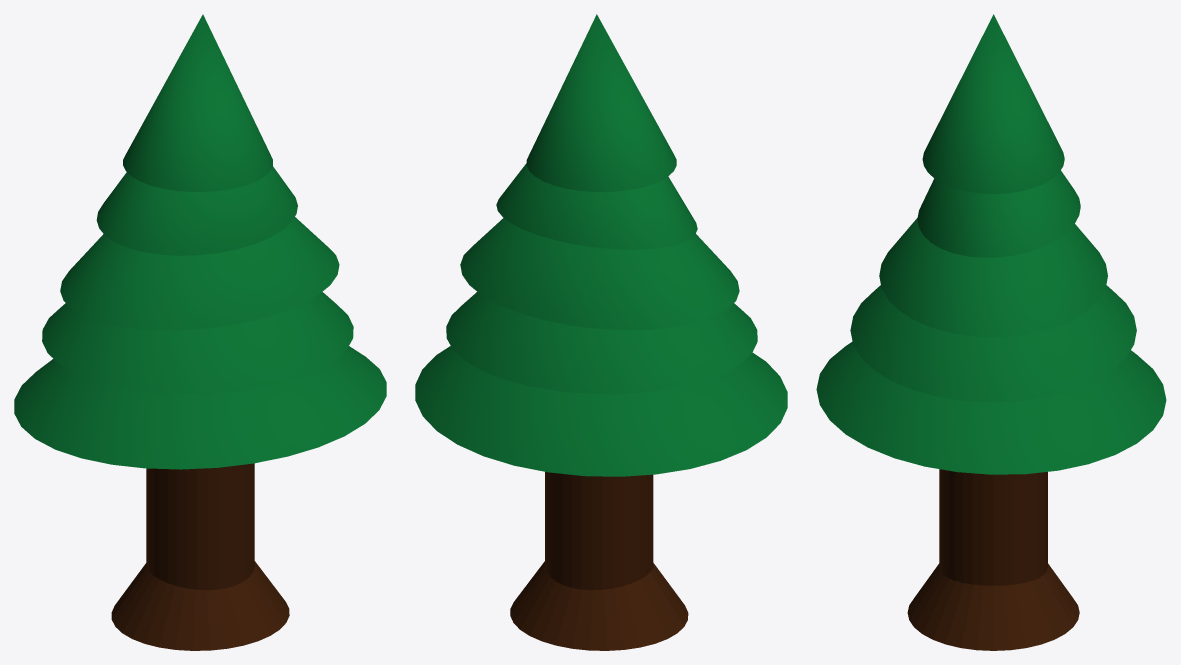
The model's file is Tree.fbx.
The picture shows the model from 3 angles, left to right: view 1: azimuth 30°, elevation 25°; view 2: azimuth 150°, elevation 25°; view 3: azimuth 270°, elevation 25°; orthographic projection.
Parts seen in each view (by area): view 1: Cone.003, Cone; view 2: Cone.003, Cone; view 3: Cone.003, Cone.
Boxes of the visible parts, x1,y1,x2,y2 form: Cone.003: (14,14,386,469); Cone: (111,463,289,650); Cone.003: (415,14,787,476); Cone: (510,472,688,650); Cone.003: (816,14,1166,474); Cone: (907,469,1079,650).
Size of the model in its own units: 528 by 914 by 483.
